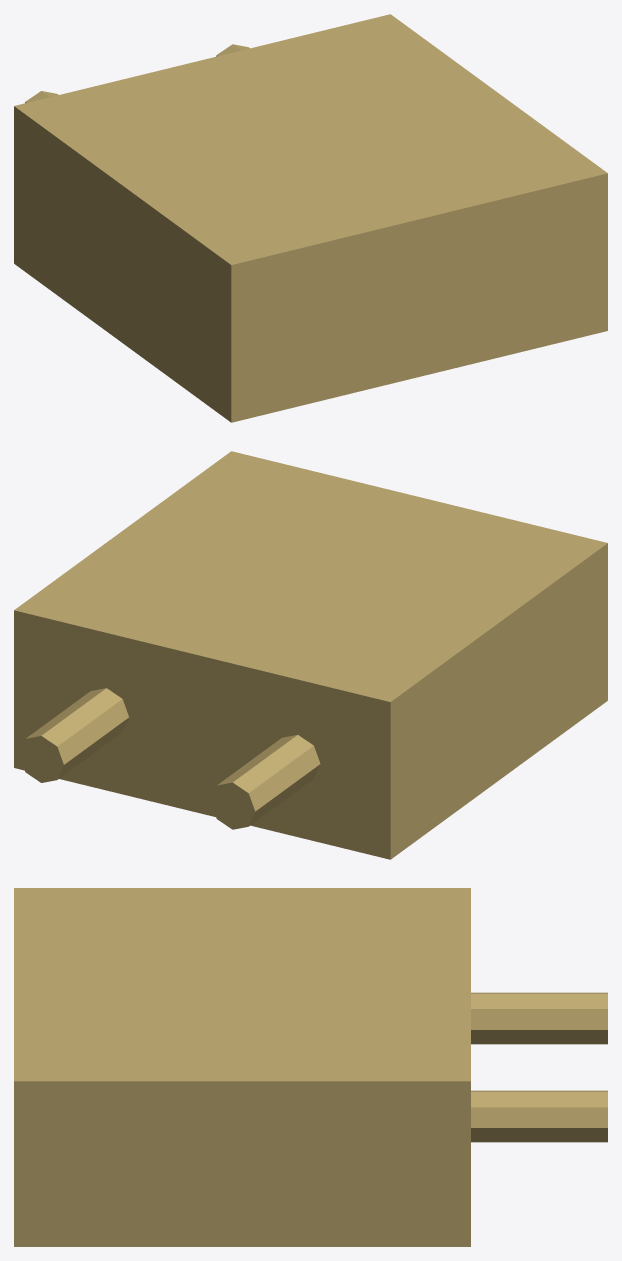
Rendered from cap-ceramic.glb.
The picture shows the model from 3 angles, top to bottom: view 1: azimuth 30°, elevation 25°; view 2: azimuth 150°, elevation 25°; view 3: azimuth 270°, elevation 25°; orthographic projection. The views are drawn at different scales.
Visible parts, largest first — view 1: 100 nF ceramic; view 2: 100 nF ceramic; view 3: 100 nF ceramic.
Part boxes in pixels (<box>): 100 nF ceramic: <box>14,14,607,422</box>; 100 nF ceramic: <box>14,451,607,859</box>; 100 nF ceramic: <box>14,888,607,1246</box>.
Bounding box in the file's own units: 0.005 × 0.002 × 0.0065.
